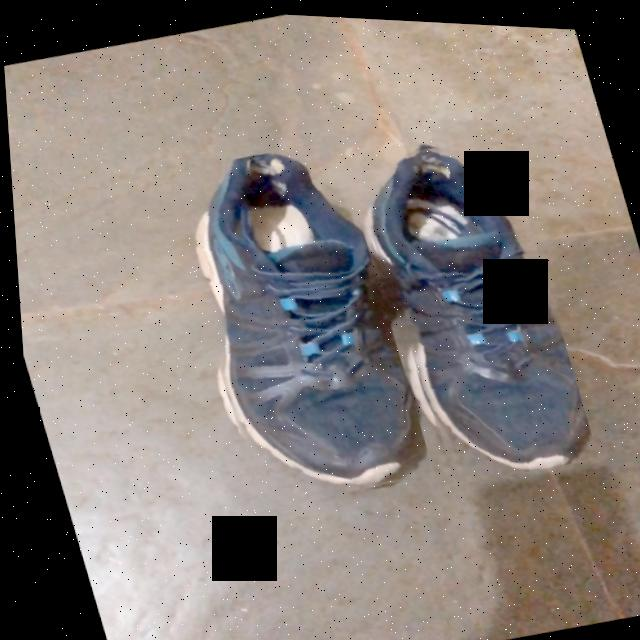shoe: (192, 150, 421, 486), (364, 144, 585, 467)
